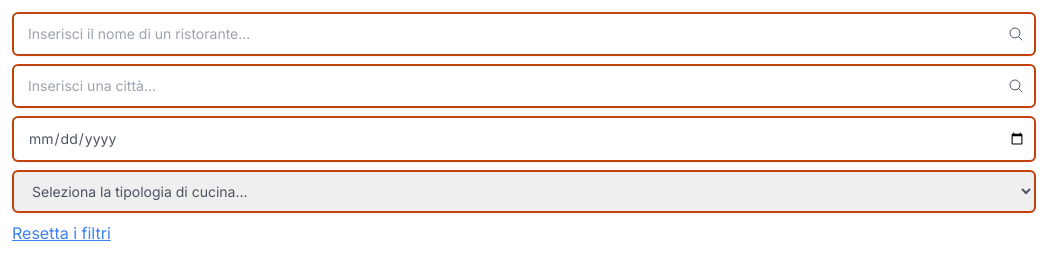
it: Verifica il funzionamento frontend del componente Restaurant Search › Verifica degli input
Type "Ristorante_1" into the field with test id "InputNomeRistorante" at (524, 34), box [12,12,1036,56]
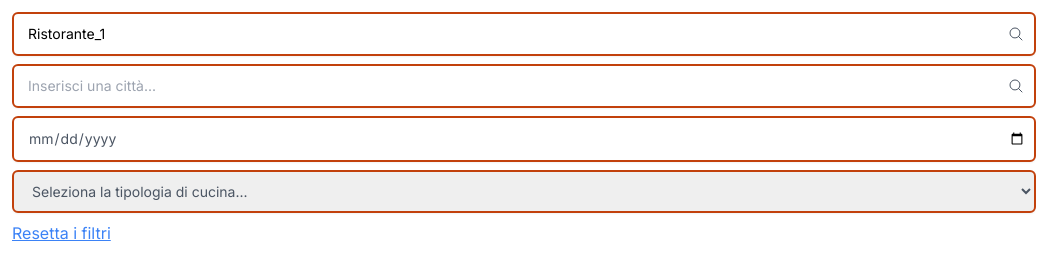
Type "Città_1" into the field with test id "InputCittà" at (524, 86), box [12,64,1036,108]
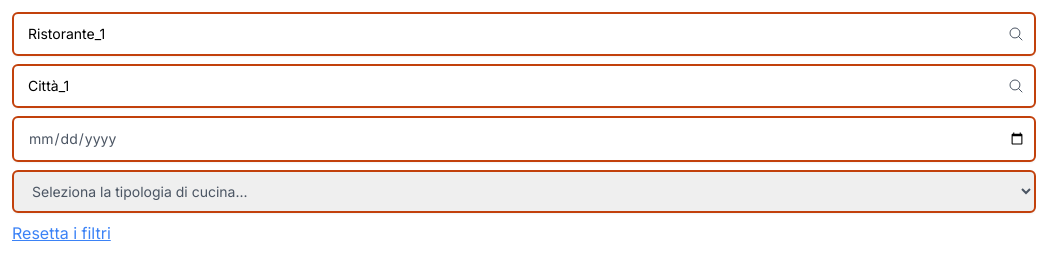
Type "2024-05-09" into the date field with test id "InputData" at (524, 139), box [12,116,1036,162]
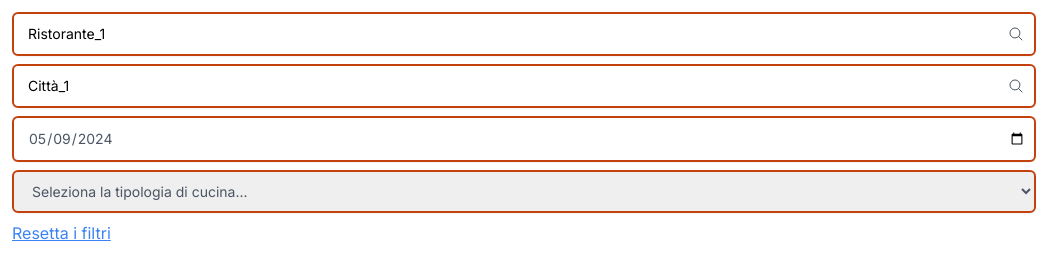
Select "Cucina_1" in the dropdown with test id "InputTipoCucina" at (524, 192), box [12,170,1036,213]
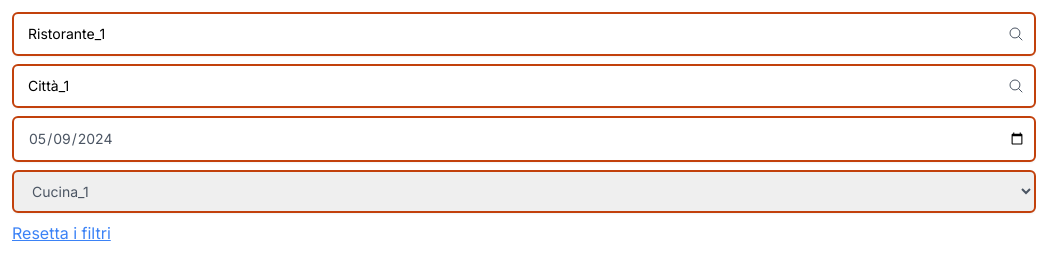
Click the link with test id "InputResetFiltri" at (61, 233), box [12,223,111,243]
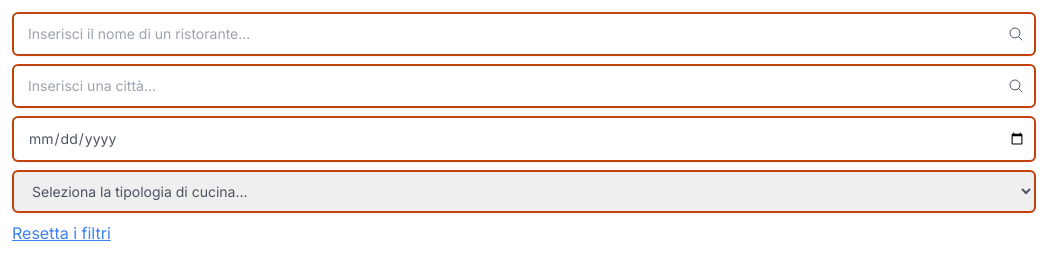
Result: the field with test id "InputNomeRistorante" is empty at [12,12,1036,56]
Result: the field with test id "InputCittà" is empty at [12,64,1036,108]
Result: the date field with test id "InputData" is empty at [12,116,1036,162]
